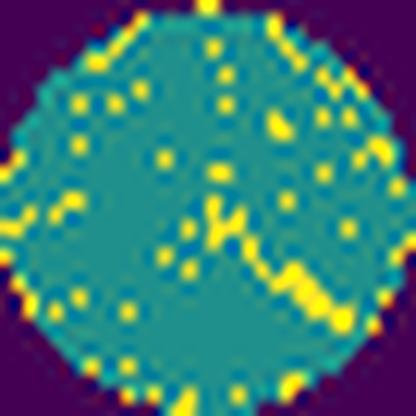Scratch: (201, 192, 355, 338)
